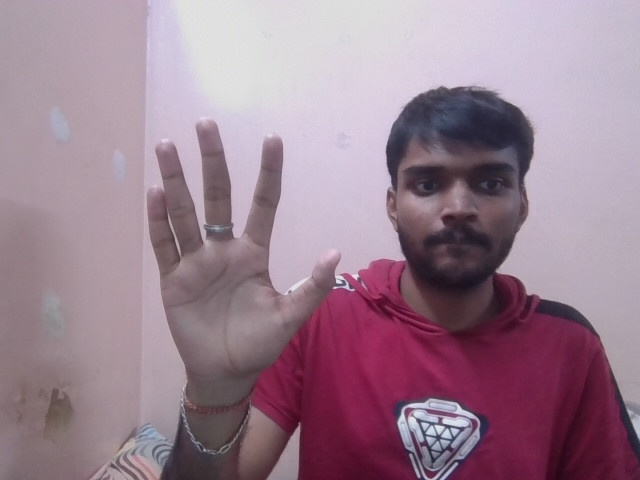Hello: (134, 122, 346, 371)
